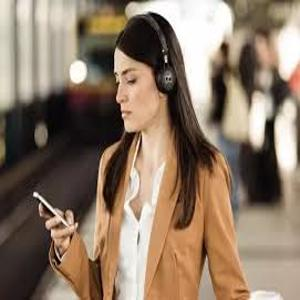Headphones: (128, 15, 177, 94)
